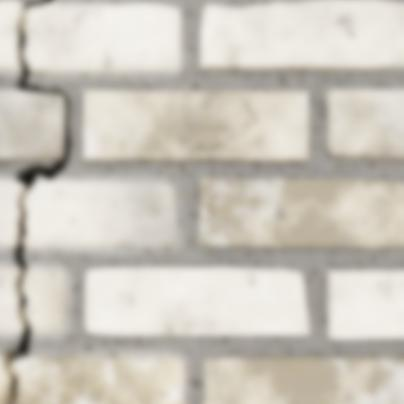brick: (83, 90, 307, 160), (84, 266, 308, 334), (198, 178, 403, 247), (199, 0, 403, 68), (203, 356, 403, 403), (327, 89, 403, 157), (328, 270, 403, 337), (0, 90, 62, 158)
broken_brick: (25, 2, 179, 72), (25, 180, 178, 248), (12, 356, 183, 403), (24, 267, 64, 333), (0, 0, 21, 71), (0, 265, 20, 333), (0, 178, 20, 246), (0, 364, 7, 403)
crack: (0, 0, 70, 403), (238, 178, 268, 225), (206, 177, 222, 225), (366, 384, 382, 403)
